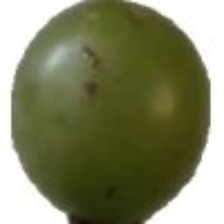grapes: (38, 0, 178, 194)
